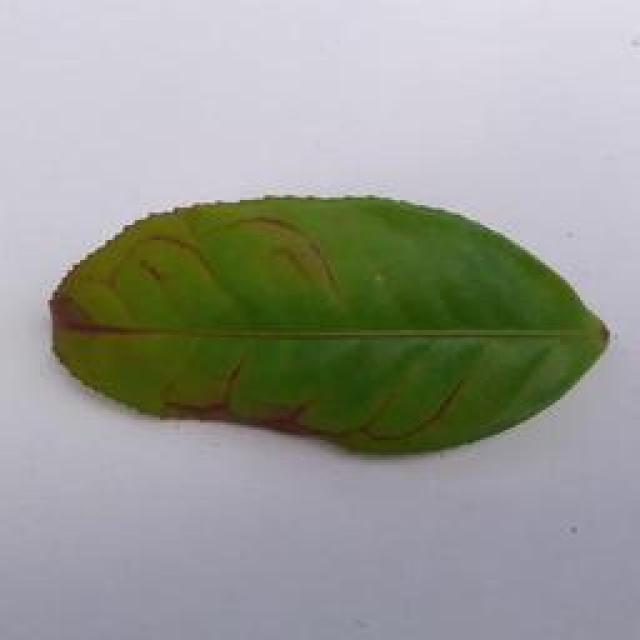Red Leaf Spot: (29, 183, 616, 460)
